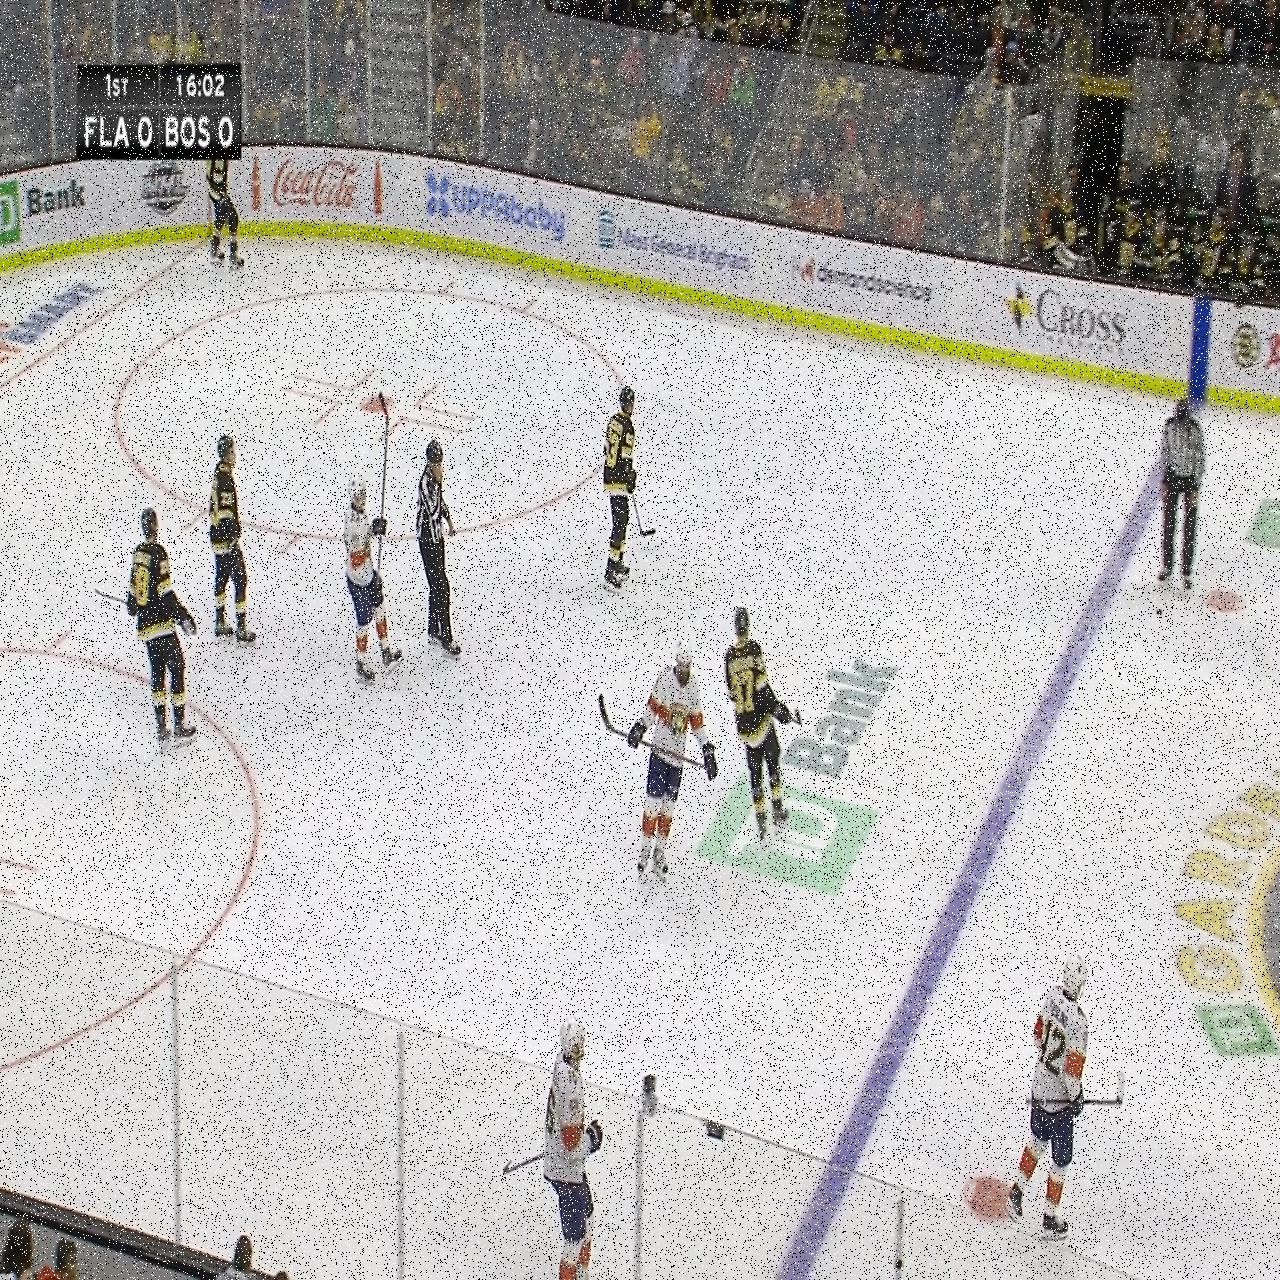Ad: (694, 644, 947, 904), (591, 182, 754, 318), (781, 226, 946, 354), (241, 128, 392, 258), (421, 139, 567, 265), (994, 265, 1131, 380), (0, 260, 110, 388), (0, 168, 118, 239), (131, 162, 196, 229)
